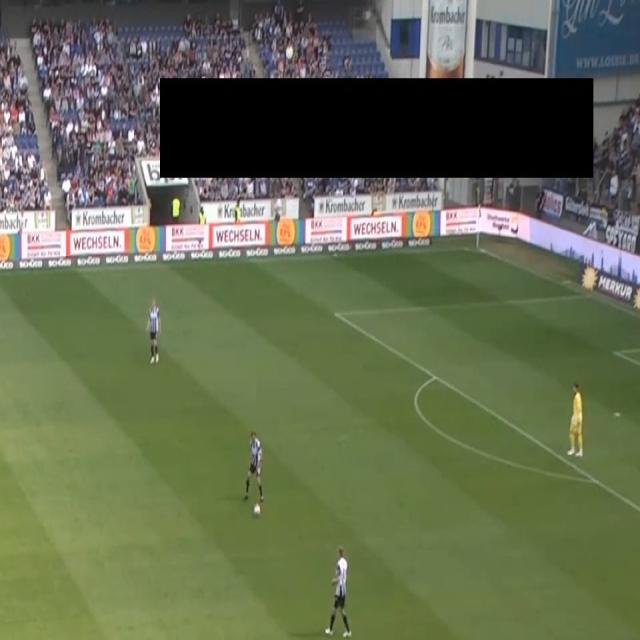ball: (252, 501, 262, 518)
